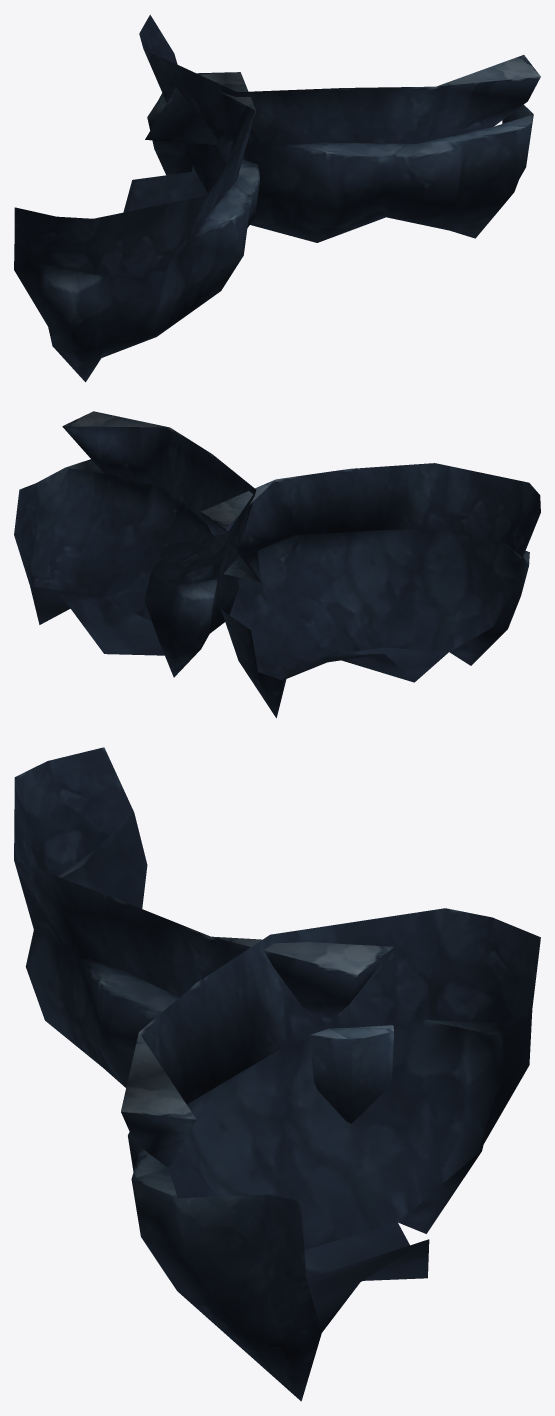
The model's file is Area_01_13.fbx.
3 views of the same model, one above another, from view 1: azimuth 30°, elevation 25°; view 2: azimuth 150°, elevation 25°; view 3: azimuth 270°, elevation 25° (orthographic). The views are drawn at different scales.
Parts seen in each view (by area): view 1: Area_01_13; view 2: Area_01_13; view 3: Area_01_13.
Part boxes in pixels (x1,y1,x2,y2): Area_01_13: (14, 14, 540, 382); Area_01_13: (14, 411, 540, 718); Area_01_13: (14, 747, 540, 1401).
Bounding box in the file's own units: 11146 × 4287 × 6552.
